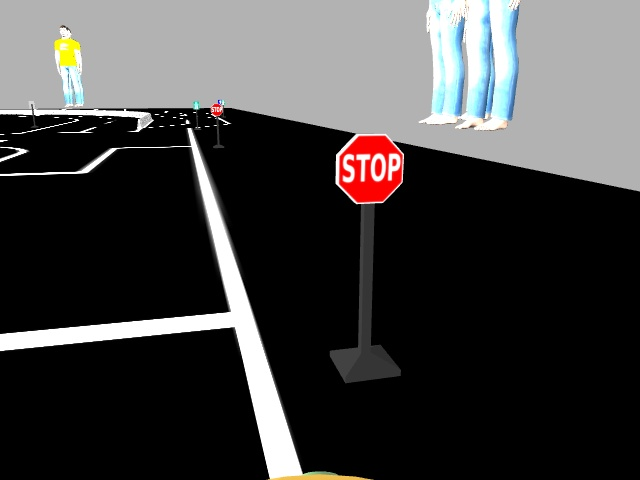Stop: (324, 130, 406, 202)
